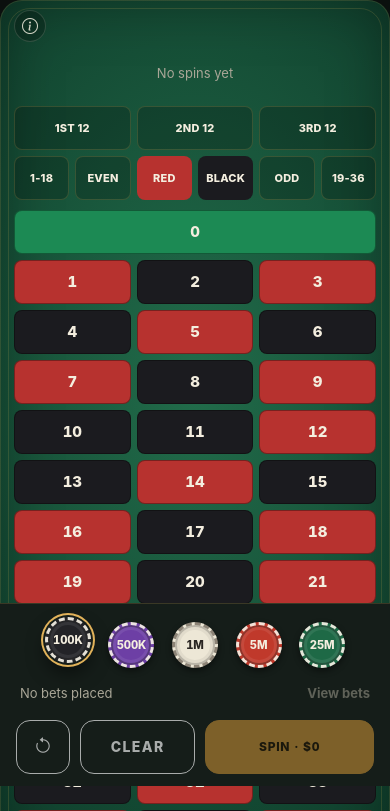
Test: RouletteView › offers larger denominations once the balance runs into the millions and bets them on the table
Click the button "5M".
click(259, 646)  # box [236,622,282,668]
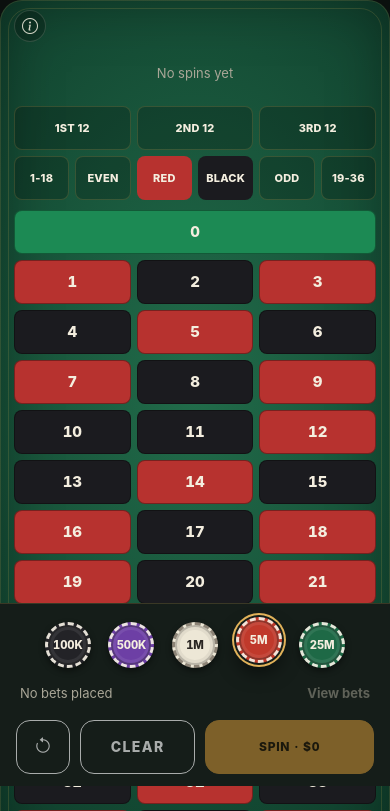
Click the button "17".
click(195, 532)  # box [137,510,253,554]
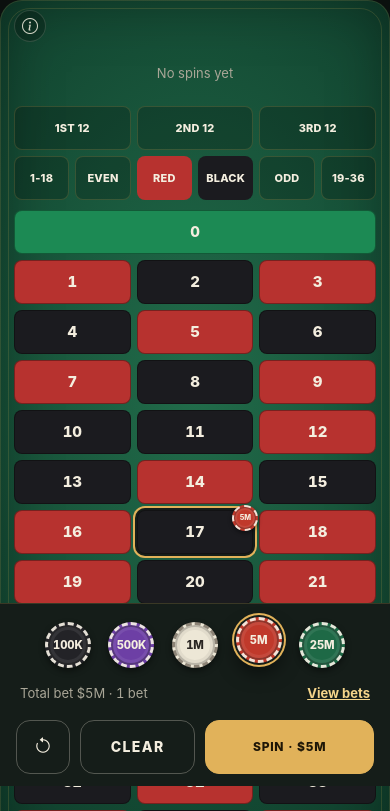
Check: the button with class "cta-btn--spin" shows "$5M", box [205,720,374,774]
